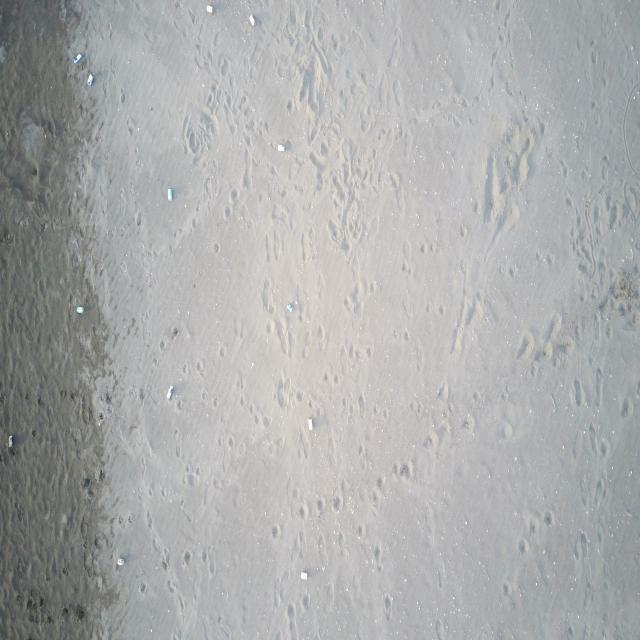tin-and-aluminum-cans: (166, 384, 174, 400), (87, 72, 94, 88), (249, 13, 256, 28), (117, 556, 125, 569), (72, 54, 82, 64), (307, 416, 313, 431), (300, 570, 308, 581), (8, 434, 14, 448), (76, 305, 85, 314), (206, 4, 214, 14), (277, 144, 286, 152), (286, 303, 293, 313), (168, 189, 172, 201)
